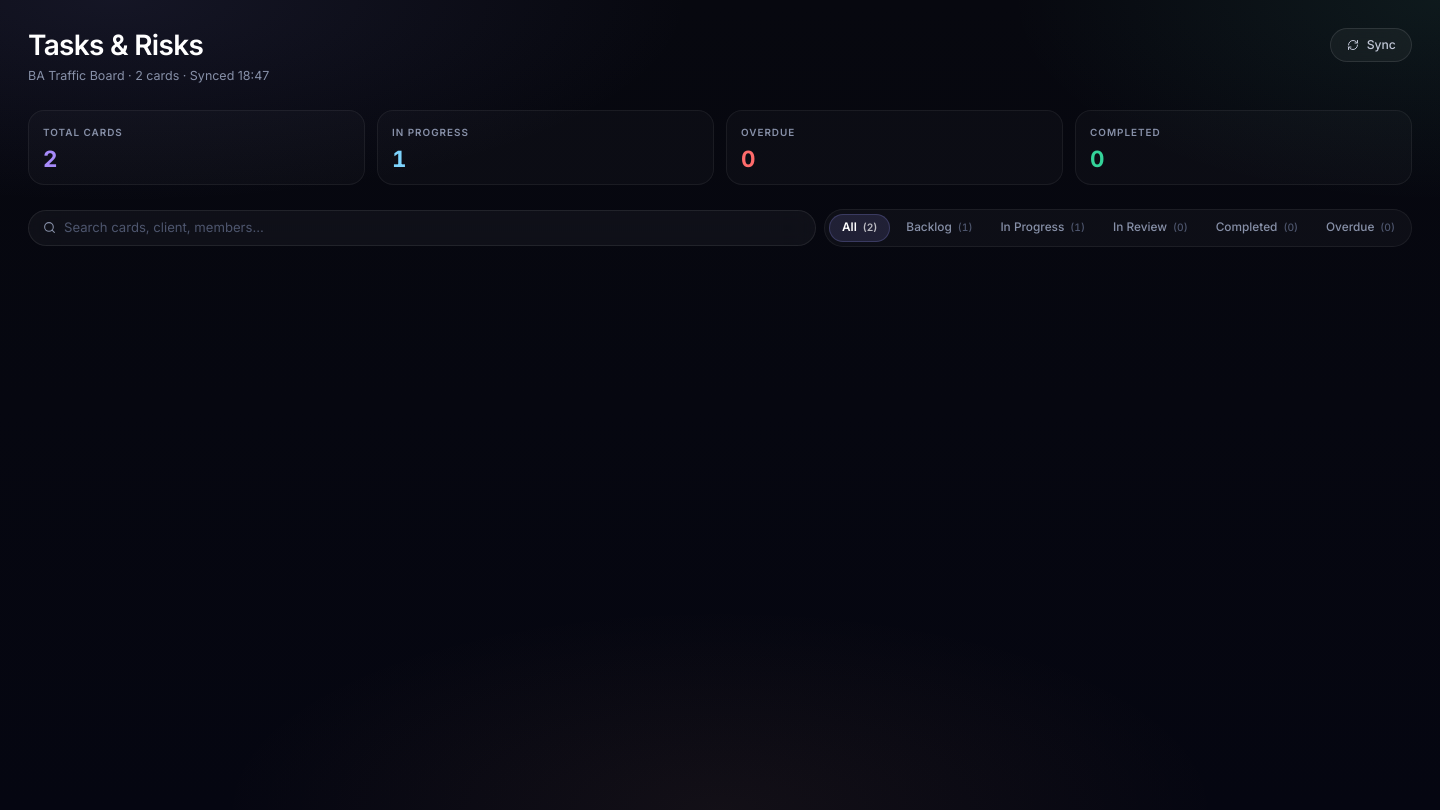
Test: Tasks – Filter tabs › filters to Backlog cards
This screenshot has width=1440, height=810.
Click the button with class "tab-item" showing "Backlog (1)": (939, 228) [894,215,984,241]
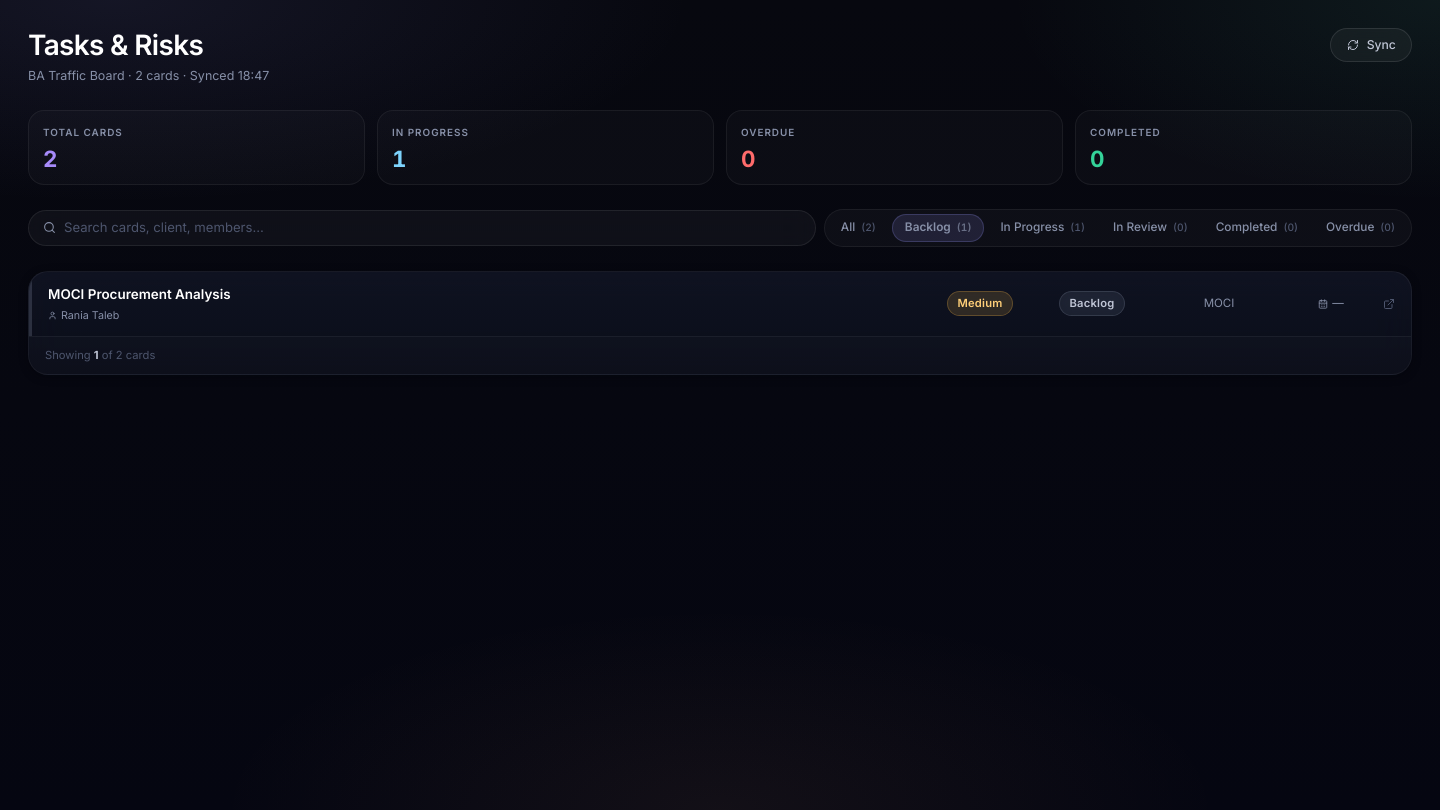
Now the text "MOCI Procurement Analysis" is shown, box [48,286,231,302]
